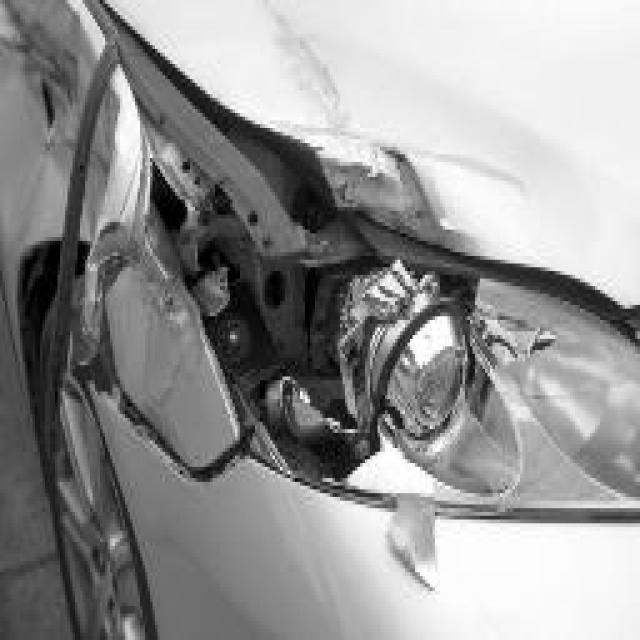Bonnet: (232, 8, 470, 211)
Fender: (35, 34, 192, 440)
Light: (202, 226, 635, 527)
